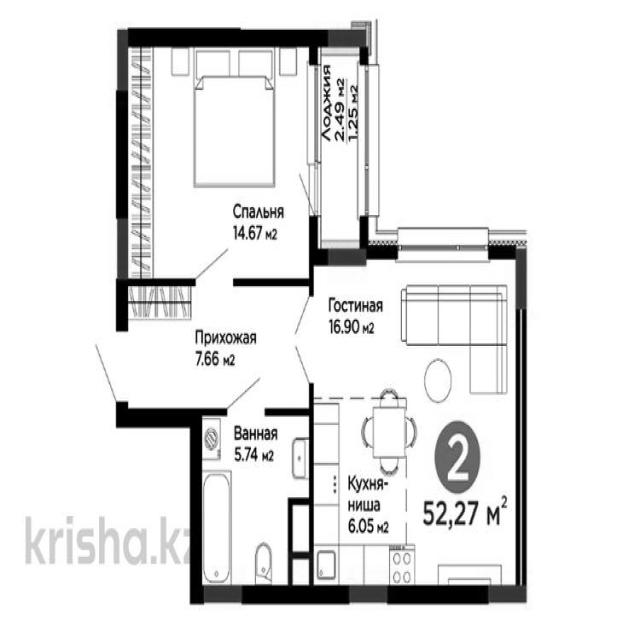balcony: (314, 37, 368, 256)
bathroom: (194, 414, 312, 601)
hallway: (121, 282, 311, 414)
living_room: (124, 42, 311, 281)
studio: (313, 253, 522, 594)
